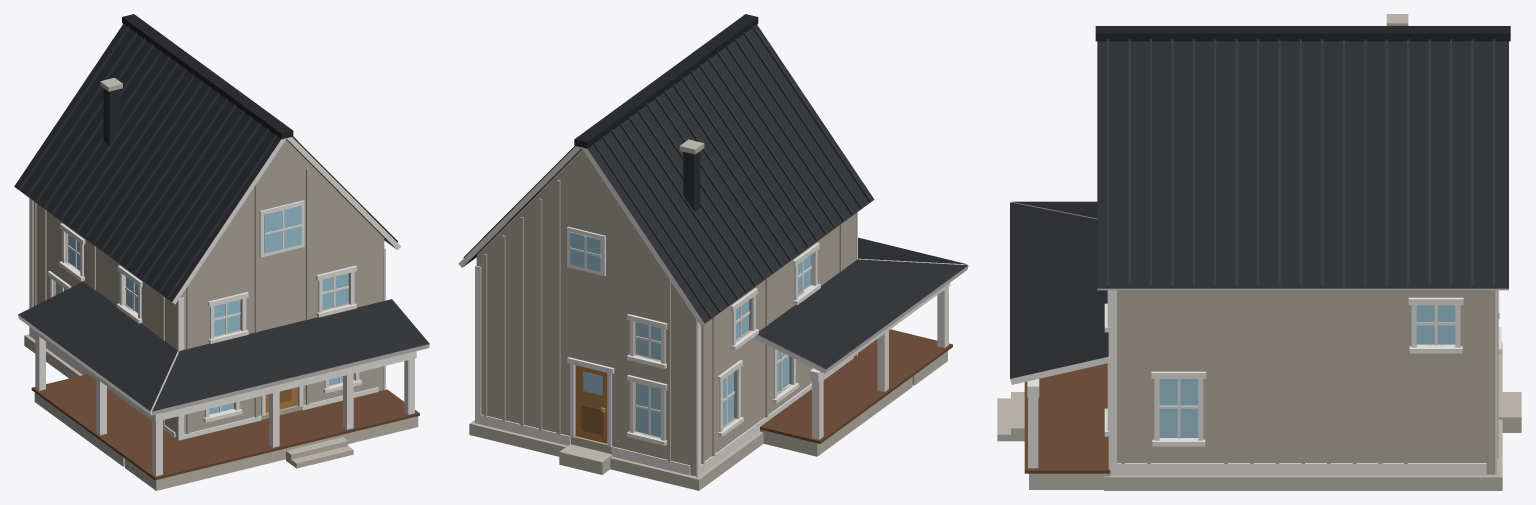
File: base-07-level1.glb
3 renders of one model, left to right at view 1: azimuth 30°, elevation 25°; view 2: azimuth 150°, elevation 25°; view 3: azimuth 270°, elevation 25°, orthographic. The views are drawn at different scales.
Parts seen in each view (by area): view 1: base_house_7_finished; view 2: base_house_7_finished; view 3: base_house_7_finished.
Boxes of the visible parts, x1=… form: base_house_7_finished: x1=14, y1=14, x2=429, y2=490; base_house_7_finished: x1=458, y1=14, x2=968, y2=490; base_house_7_finished: x1=997, y1=14, x2=1521, y2=490.
Size of the model in its own units: 9.99 by 10.13 by 12.24.
